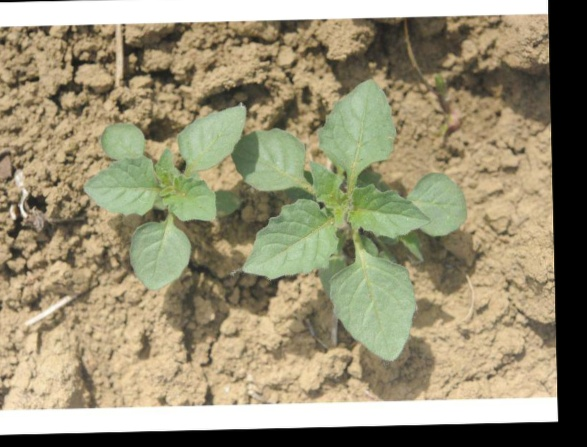nightshade: (234, 78, 467, 359), (83, 103, 248, 288)
